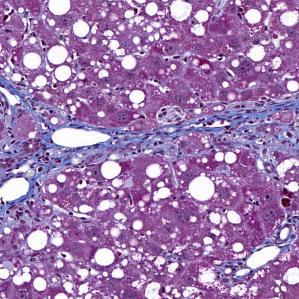fibrosis: (212, 97, 299, 166), (111, 103, 205, 160), (0, 140, 64, 175)
